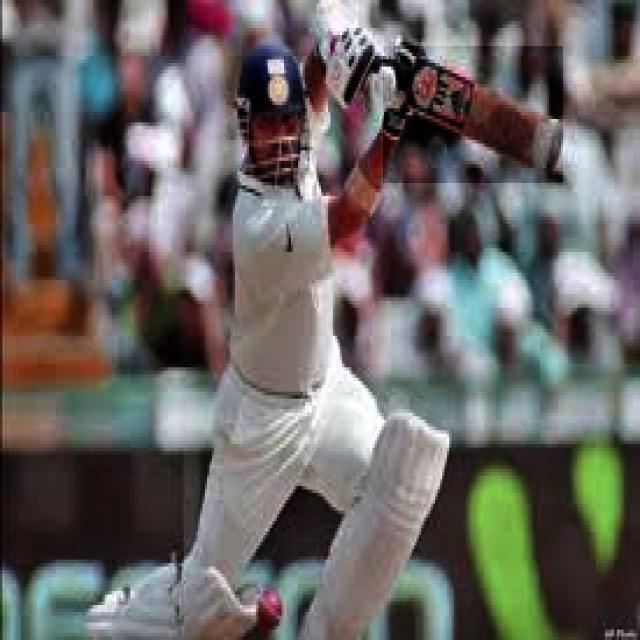bat: (393, 43, 567, 183)
